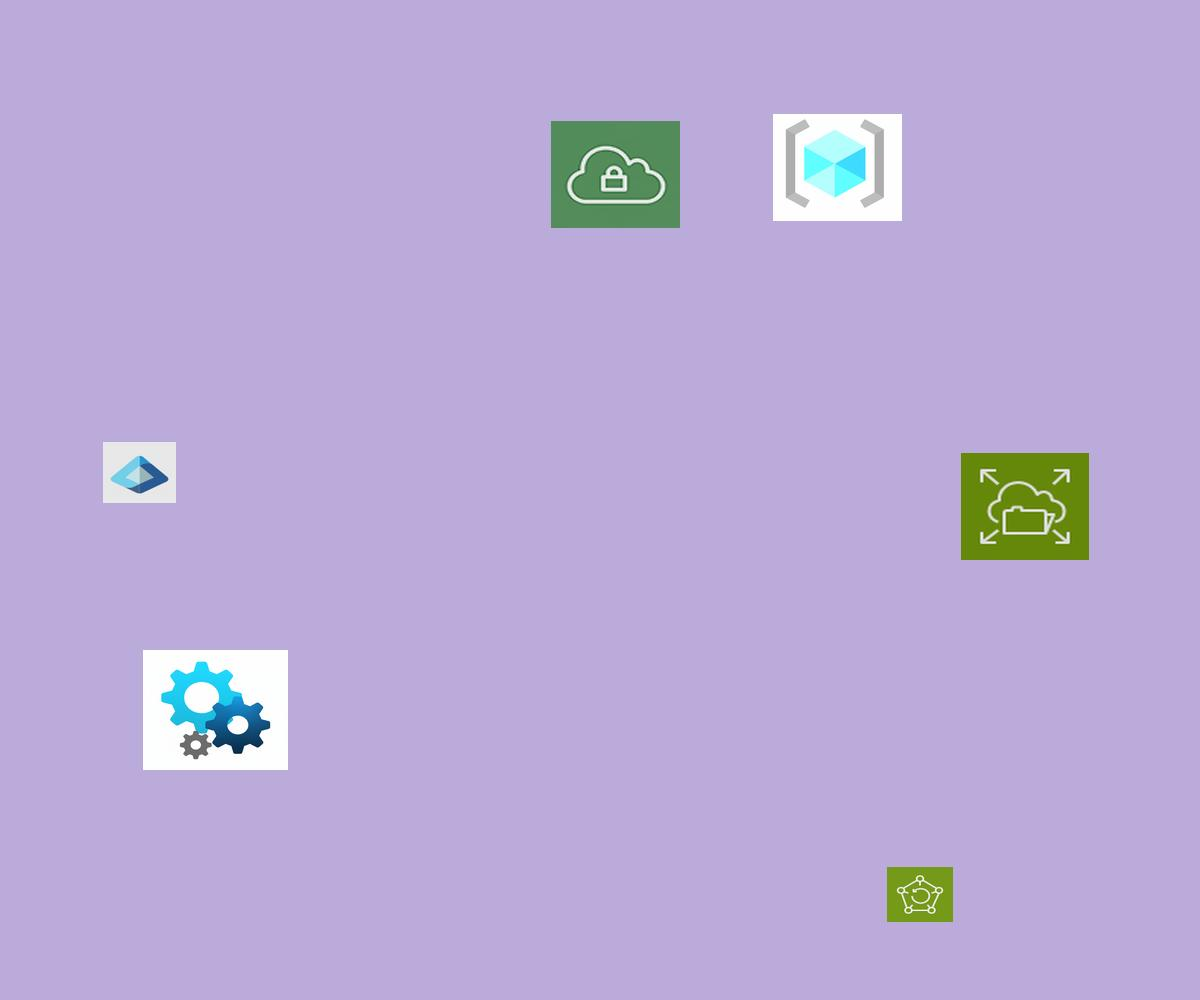AWS-Backup: (887, 867, 953, 922)
AWS-EFS: (961, 453, 1089, 560)
AWS-Private_vpc: (551, 121, 680, 228)
Azure_api: (143, 650, 288, 770)
Azure_microsoft_entra: (103, 442, 176, 503)
Azure_resource_group: (773, 114, 902, 221)
